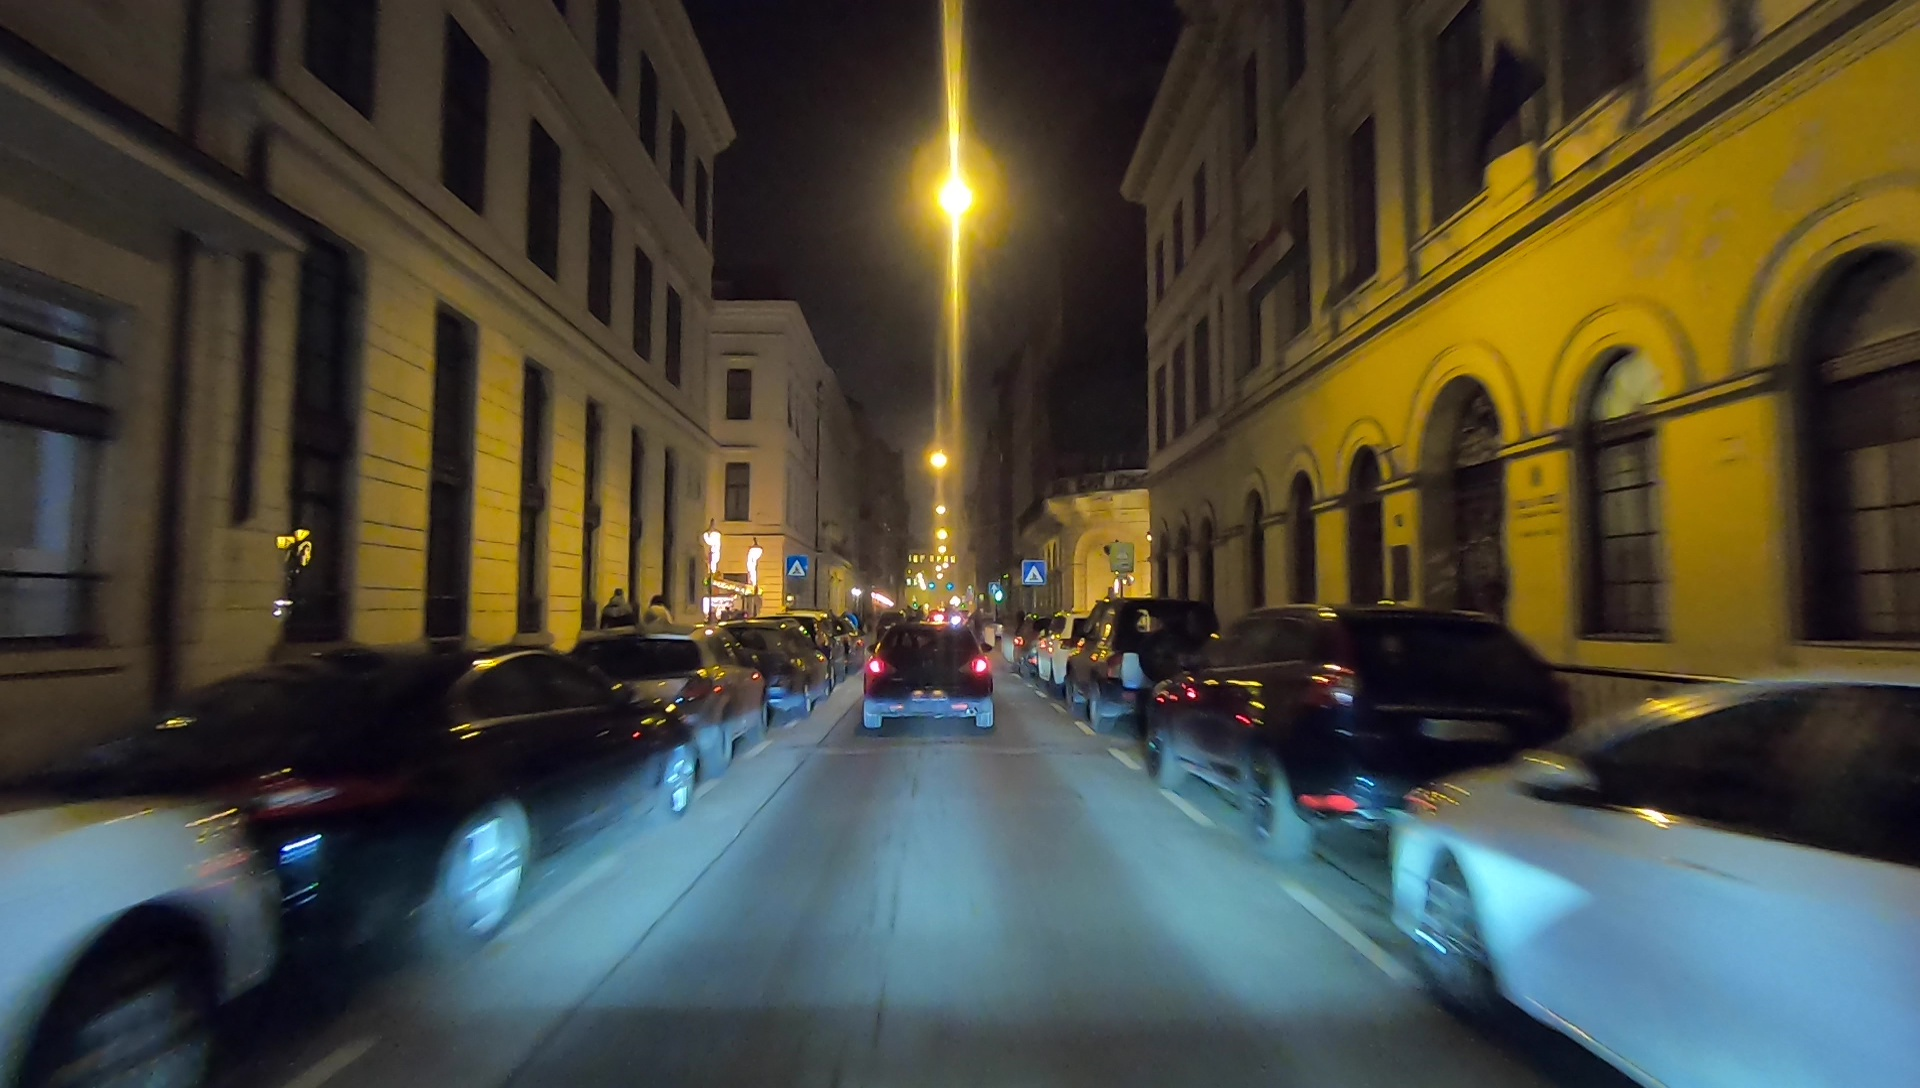person: (601, 582, 636, 658), (641, 591, 675, 656)
